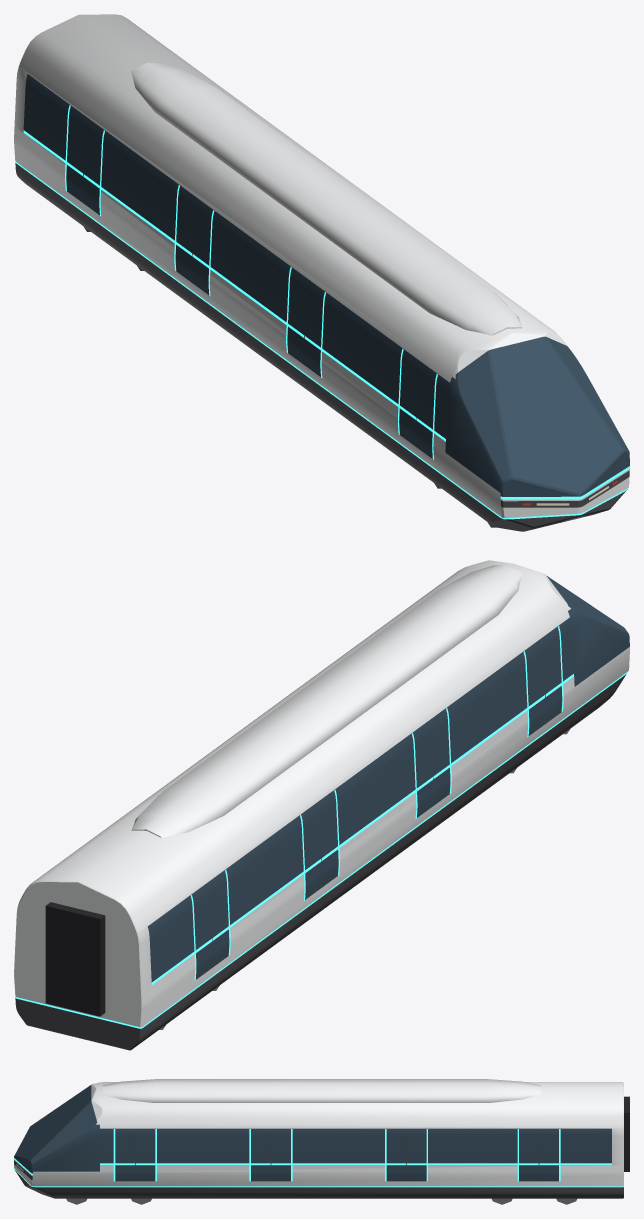
The picture shows the model from 3 angles, top to bottom: view 1: azimuth 30°, elevation 25°; view 2: azimuth 150°, elevation 25°; view 3: azimuth 270°, elevation 25°; orthographic projection. The views are drawn at different scales.
Visible parts, largest first — view 1: 20_1; view 2: 20_1; view 3: 20_1.
Boxes of the visible parts, box(x1,y1,x2,y2) form: 20_1: box(14, 14, 629, 531); 20_1: box(14, 560, 629, 1050); 20_1: box(14, 1079, 629, 1204).
Bounding box in the file's own units: 2.96 × 3.94 × 19.99.
